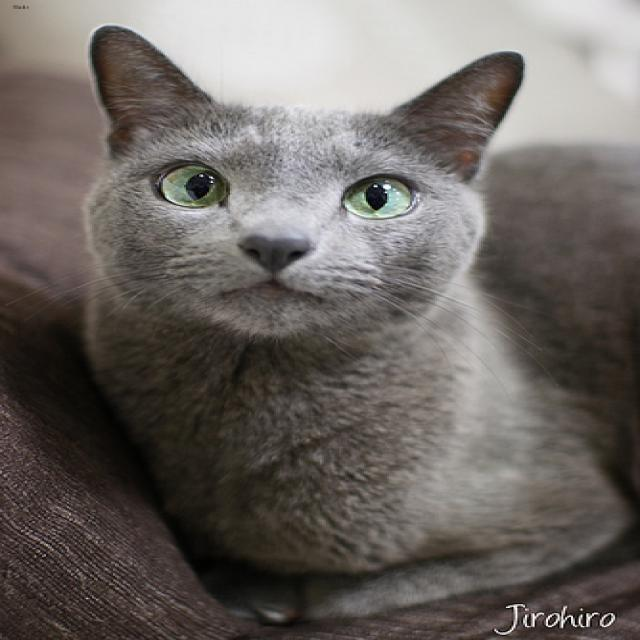Russian_Blue: (77, 22, 520, 350)
